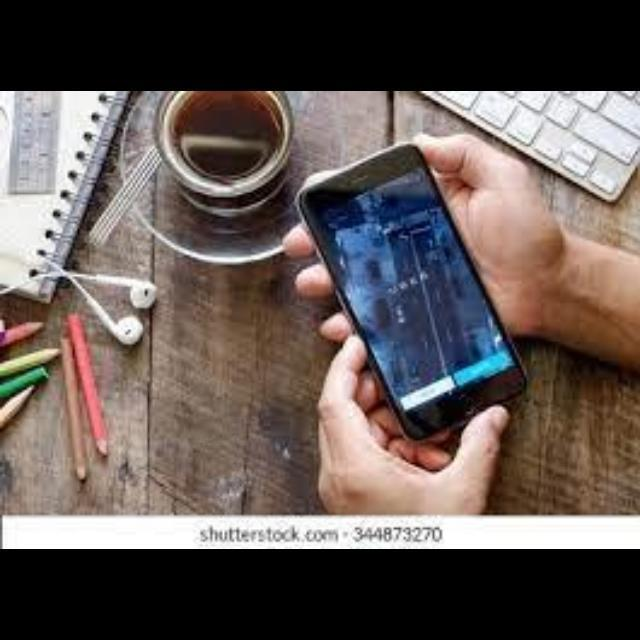phone: (287, 151, 553, 441)
